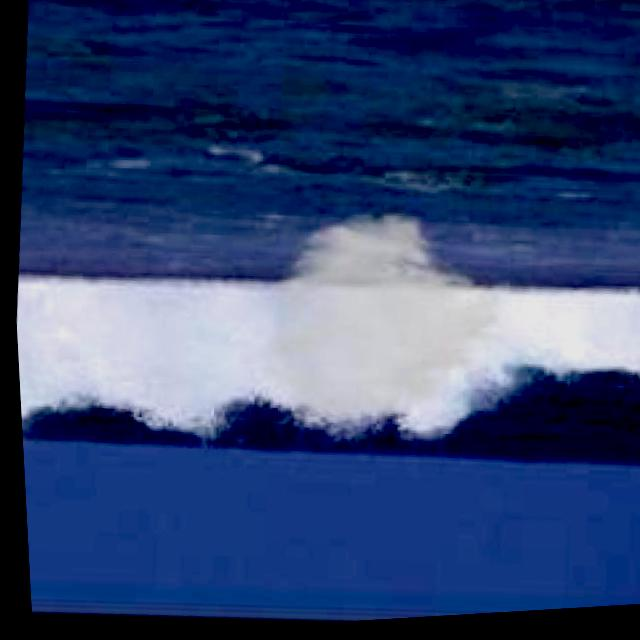Smoke: (238, 195, 528, 449)
